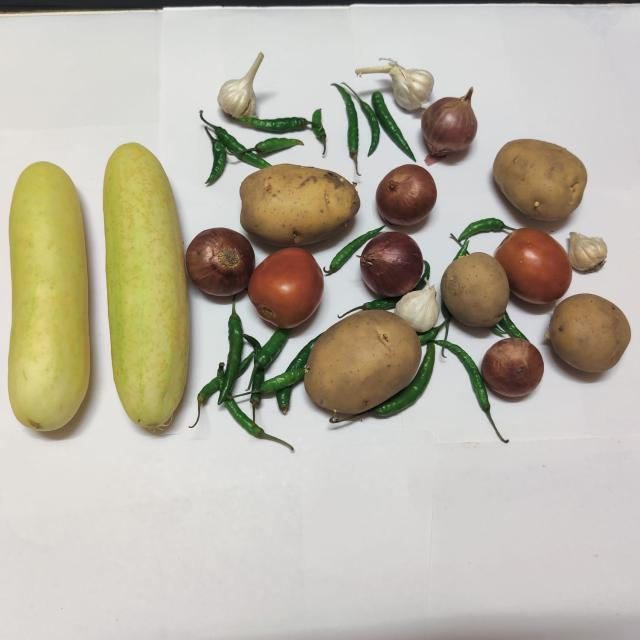Organik: (96, 140, 196, 442), (0, 152, 96, 452), (200, 316, 307, 447), (304, 315, 412, 416), (238, 162, 364, 244), (546, 291, 636, 389), (496, 135, 594, 218), (242, 244, 324, 330), (494, 223, 573, 308), (432, 333, 492, 428), (207, 52, 280, 125), (421, 80, 483, 163), (198, 119, 294, 171), (349, 54, 437, 110), (185, 226, 252, 299), (373, 164, 441, 228), (358, 89, 417, 162), (482, 334, 544, 402), (361, 234, 425, 294), (332, 82, 364, 170), (291, 105, 338, 162), (571, 223, 616, 282), (398, 281, 446, 330), (450, 218, 508, 248)
